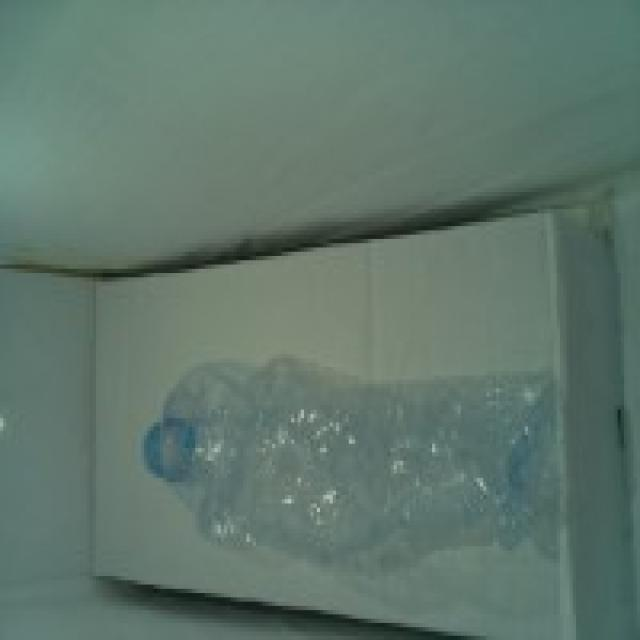Anorganik: (138, 354, 560, 572)
